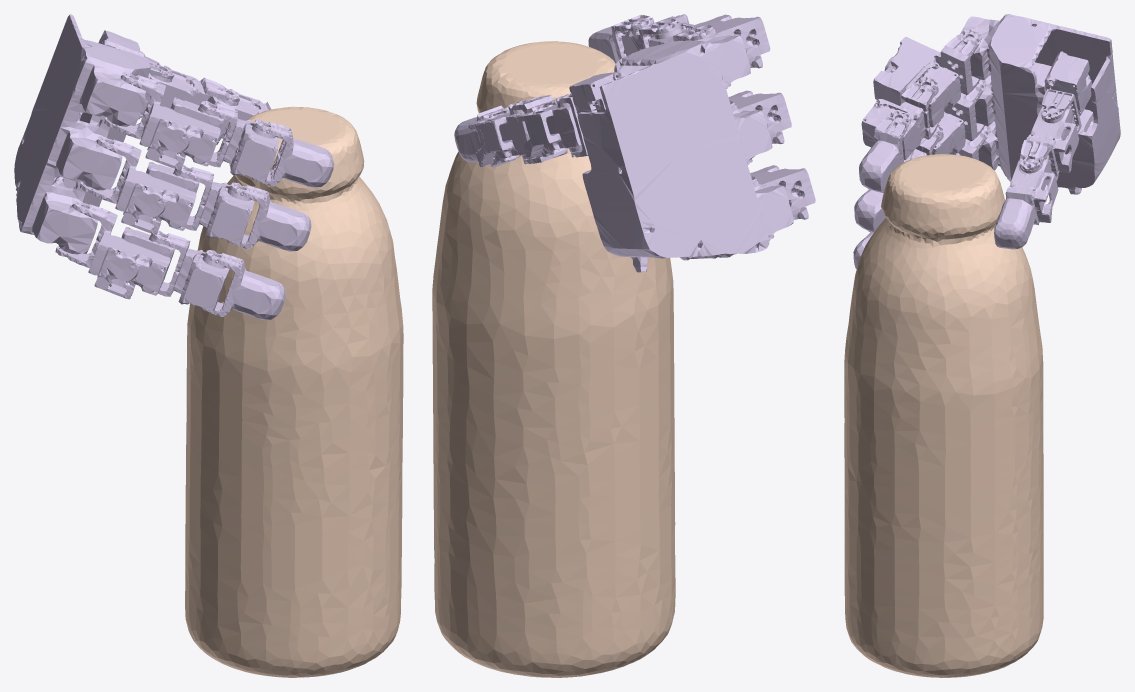
File: 9ae933caa3ae88-closed.glb
3 renders of one model, left to right at view 1: azimuth 30°, elevation 25°; view 2: azimuth 150°, elevation 25°; view 3: azimuth 270°, elevation 25°, orthographic. The views are drawn at different scales.
Visible parts, largest first — view 1: world, LEAP_hand; view 2: world, LEAP_hand; view 3: world, LEAP_hand.
Boxes of the visible parts, x1,y1,x2,y2 form: world: [185, 106, 403, 677]; LEAP_hand: [14, 14, 333, 320]; world: [432, 41, 675, 677]; LEAP_hand: [454, 14, 815, 272]; world: [844, 154, 1043, 677]; LEAP_hand: [853, 14, 1120, 268].
Bounding box in the file's own units: 0.241 × 0.4199 × 0.1896.
